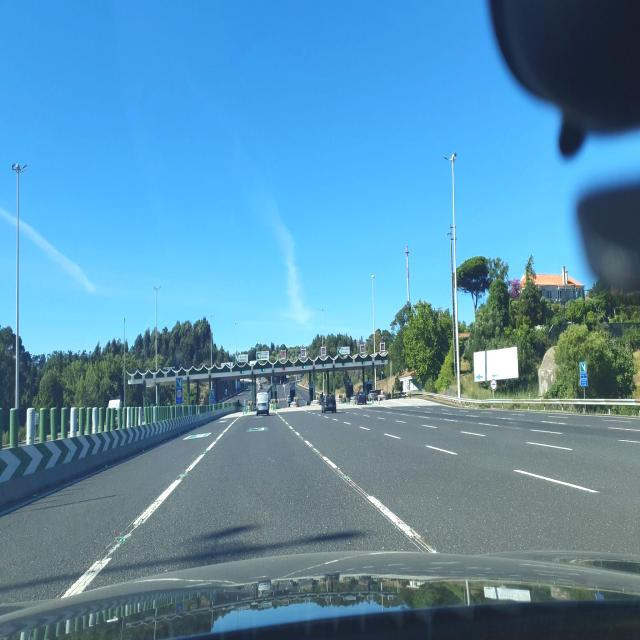car: (322, 393, 337, 414), (256, 396, 270, 416), (355, 390, 367, 405), (368, 388, 380, 402), (337, 390, 347, 403)
